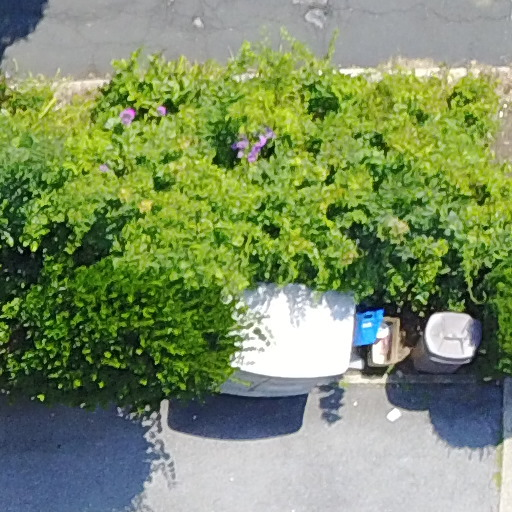container: (185, 250, 365, 441), (364, 299, 409, 383)
garbage bin: (412, 298, 483, 386)
